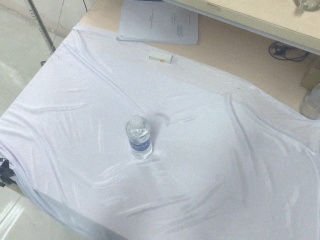bottle: (126, 115, 153, 161)
